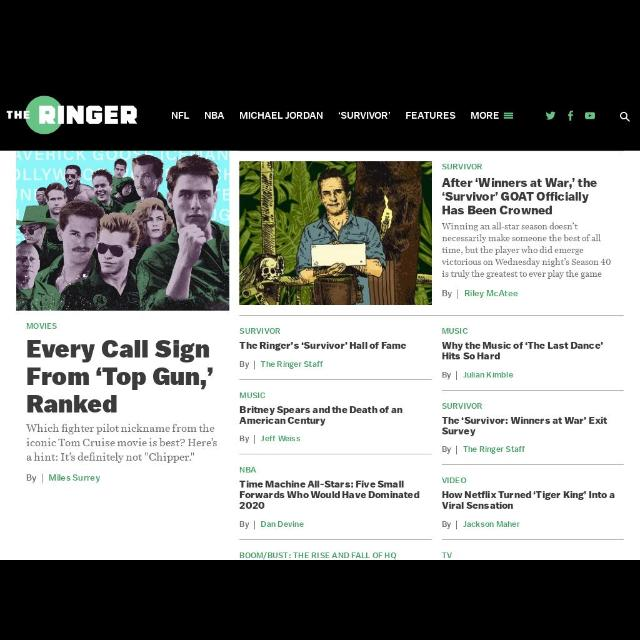icon: (618, 106, 634, 124), (542, 105, 556, 121), (562, 109, 578, 123), (584, 109, 598, 121), (504, 110, 512, 124)
image: (17, 150, 229, 308), (240, 161, 432, 305), (5, 92, 140, 138)
link: (238, 548, 396, 558), (260, 358, 328, 370), (259, 430, 301, 448), (464, 518, 526, 530), (463, 442, 529, 453), (462, 287, 522, 299), (462, 368, 516, 380), (238, 324, 284, 338), (48, 471, 102, 482), (439, 400, 486, 412), (440, 160, 484, 172), (260, 520, 308, 530), (442, 471, 468, 487), (26, 318, 58, 330), (238, 388, 268, 400), (440, 324, 470, 336), (239, 464, 259, 474), (441, 548, 457, 558)
spinner: (467, 104, 517, 126)
text: (22, 337, 218, 418), (439, 221, 615, 283), (22, 419, 220, 466), (438, 174, 602, 218), (236, 478, 422, 512), (442, 487, 618, 513), (238, 402, 408, 428), (442, 412, 608, 438), (440, 341, 604, 363), (238, 336, 410, 354), (22, 465, 108, 487), (240, 354, 330, 374), (443, 516, 531, 536), (441, 283, 527, 301), (442, 439, 532, 456), (236, 514, 312, 532), (441, 367, 522, 383), (238, 108, 324, 122), (239, 430, 305, 446), (404, 108, 460, 122), (334, 110, 392, 122), (169, 106, 191, 122), (471, 110, 499, 120), (204, 108, 224, 120)
toolbar: (2, 82, 638, 148)
